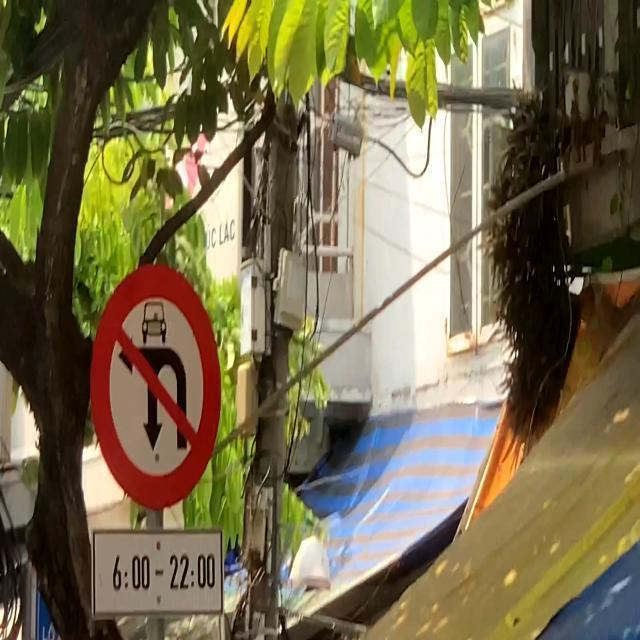124c-cam-re-trai-va-cam-quay-dau-xe: (90, 266, 218, 510)
